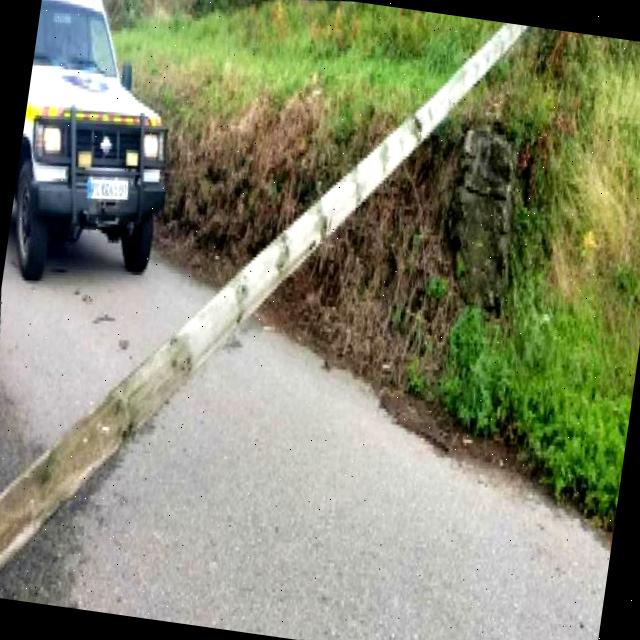Broken Pole: (0, 22, 527, 566)
